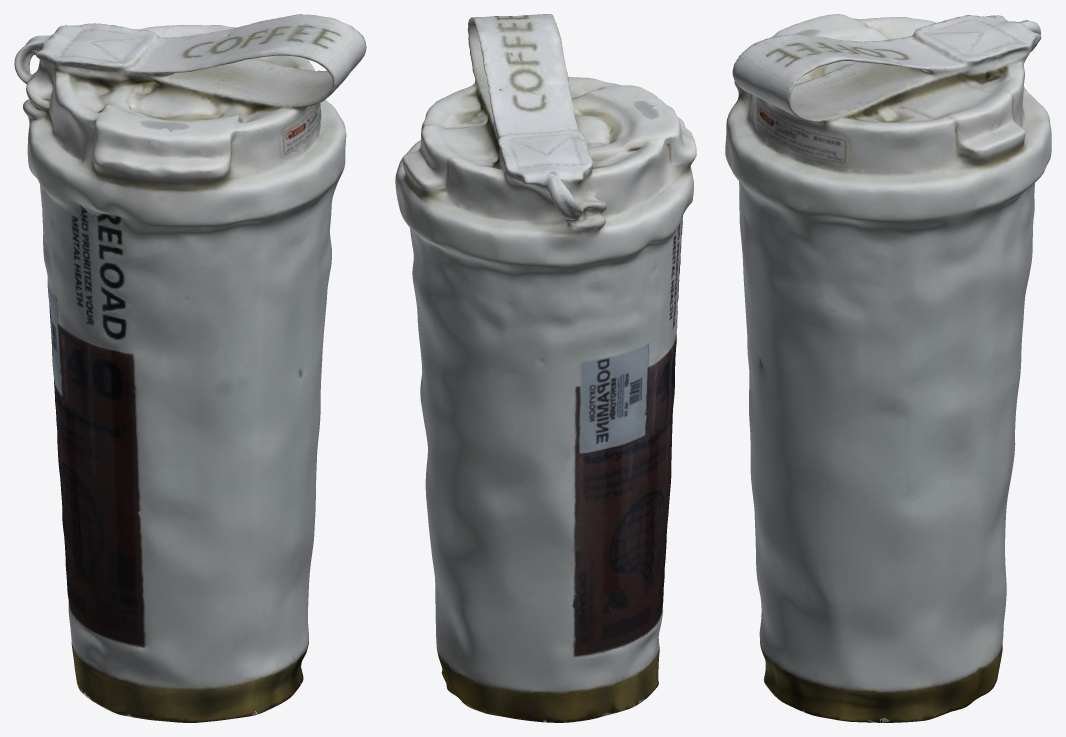
Rendered from coffee.glb.
The picture shows the model from 3 angles, left to right: view 1: azimuth 30°, elevation 25°; view 2: azimuth 150°, elevation 25°; view 3: azimuth 270°, elevation 25°; orthographic projection. The views are drawn at different scales.
Visible parts, largest first — view 1: 3DModel; view 2: 3DModel; view 3: 3DModel.
Boxes of the visible parts, x1,y1,x2,y2 form: 3DModel: [14, 14, 366, 722]; 3DModel: [395, 14, 696, 722]; 3DModel: [725, 14, 1051, 722].
Bounding box in the file's own units: 0.0927 × 0.2102 × 0.0934.
1 material, 1 textured.
